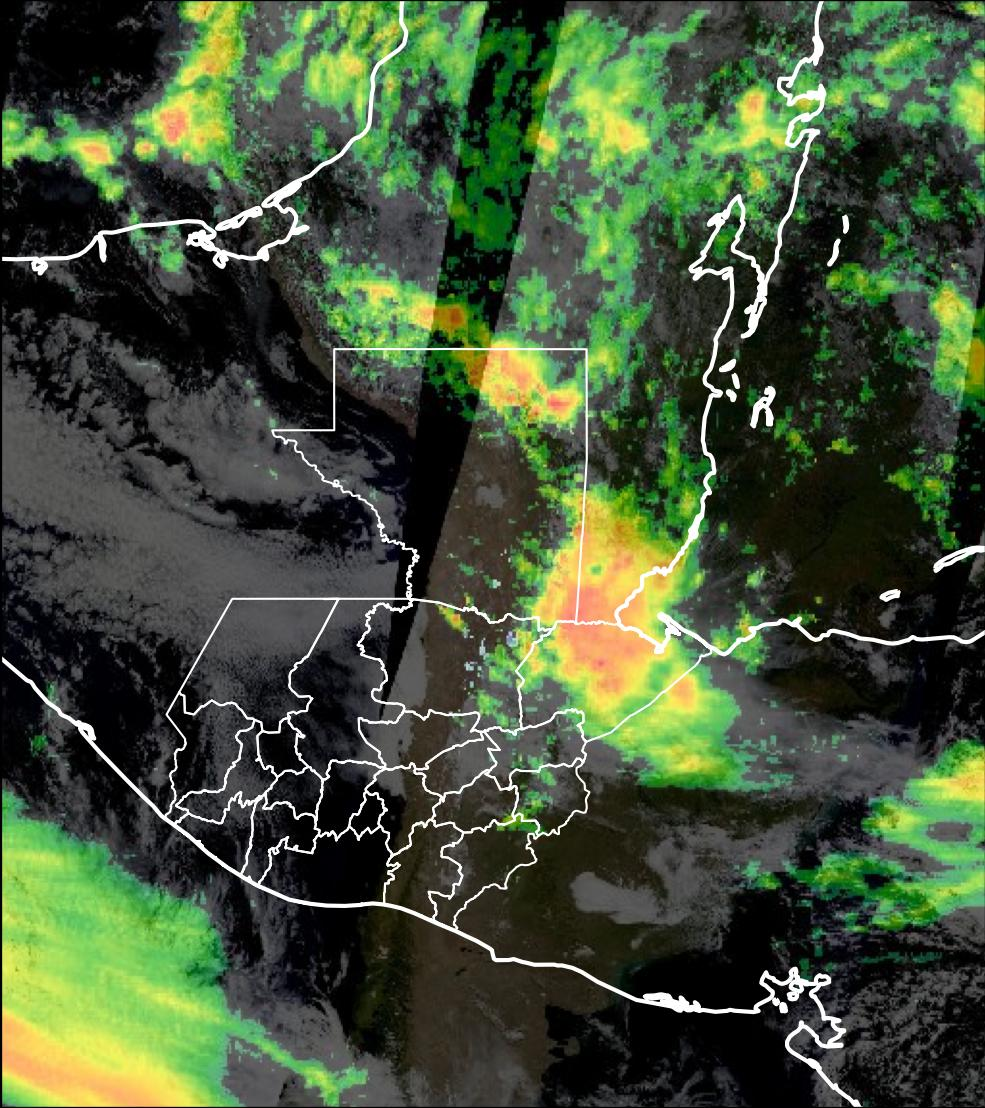precipitacion: (520, 508, 652, 711), (5, 1006, 195, 1108)
